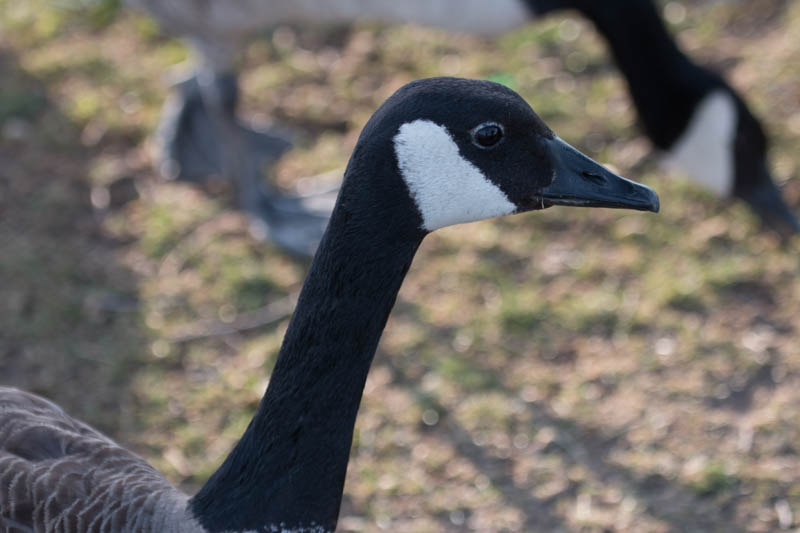goose-head: (328, 76, 662, 232)
